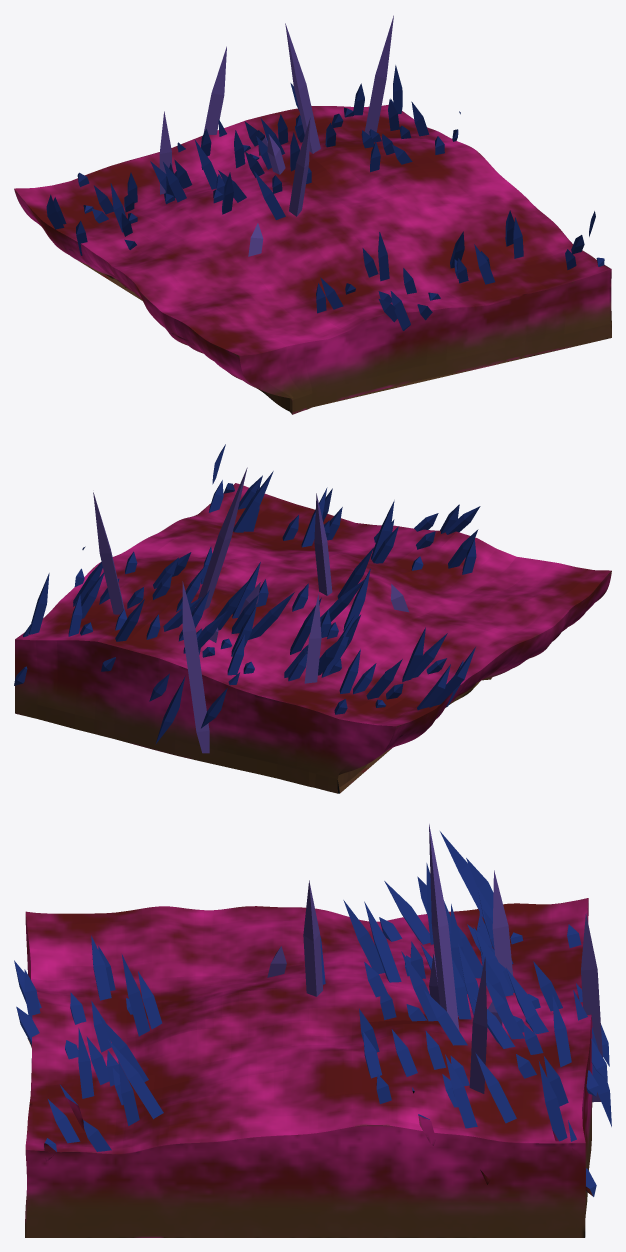
File: lower_left.fbx
The picture shows the model from 3 angles, top to bottom: view 1: azimuth 30°, elevation 25°; view 2: azimuth 150°, elevation 25°; view 3: azimuth 270°, elevation 25°; orthographic projection. The views are drawn at different scales.
Visible parts, largest first — view 1: lower_left; view 2: lower_left; view 3: lower_left.
Boxes of the visible parts, box(x1,y1,x2,y2) form: lower_left: box(14, 15, 611, 414); lower_left: box(14, 444, 611, 793); lower_left: box(14, 824, 611, 1237).
Bounding box in the file's own units: 634 × 367 × 641.
